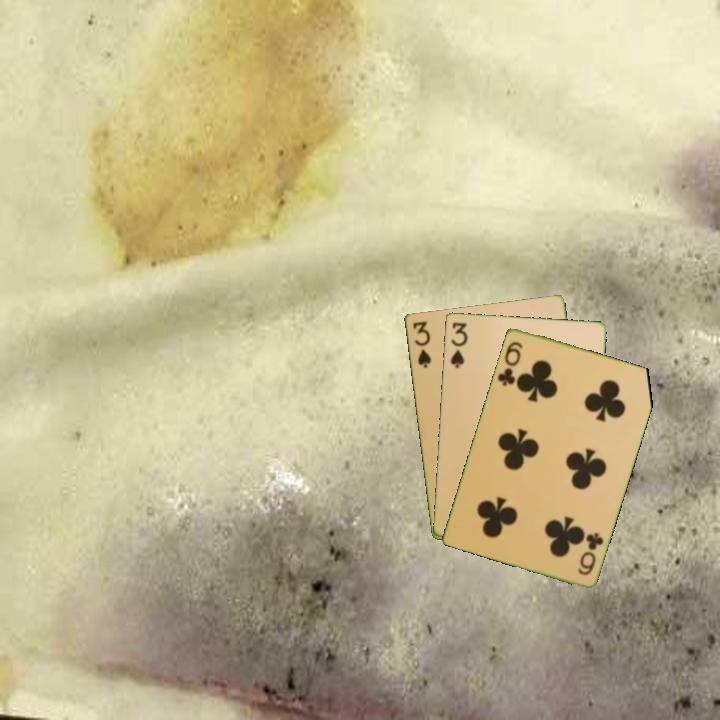3s: (409, 318, 434, 370), (447, 319, 470, 371)
6c: (493, 337, 525, 389), (574, 529, 606, 578)
